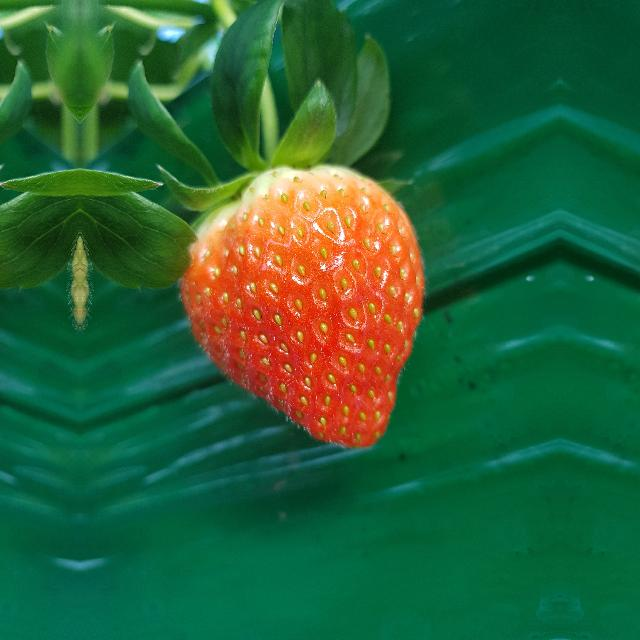Health_100: (180, 165, 426, 447)
